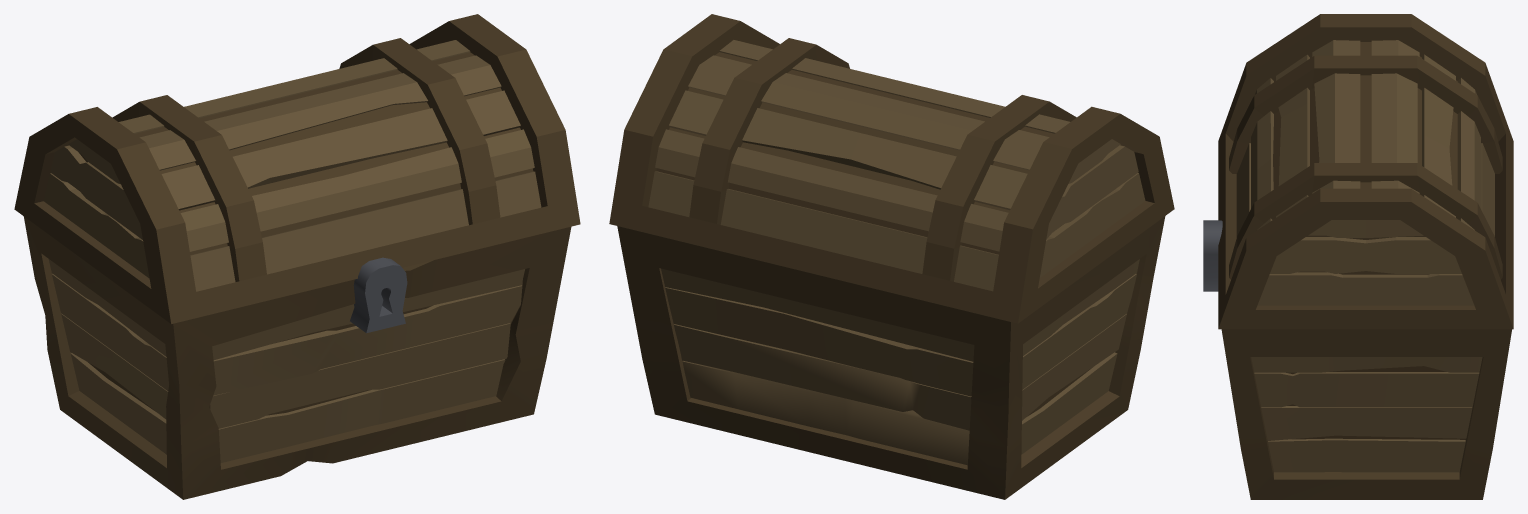
File: Chest_Gold.glb
The picture shows the model from 3 angles, left to right: view 1: azimuth 30°, elevation 25°; view 2: azimuth 150°, elevation 25°; view 3: azimuth 270°, elevation 25°; orthographic projection. The views are drawn at different scales.
Visible parts, largest first — view 1: Chest_Gold; view 2: Chest_Gold; view 3: Chest_Gold.
Boxes of the visible parts, x1=… form: Chest_Gold: x1=14, y1=14, x2=580, y2=499; Chest_Gold: x1=609, y1=14, x2=1174, y2=499; Chest_Gold: x1=1203, y1=14, x2=1513, y2=499.
Bounding box in the file's own units: 0.5897 × 0.4553 × 0.4111.
